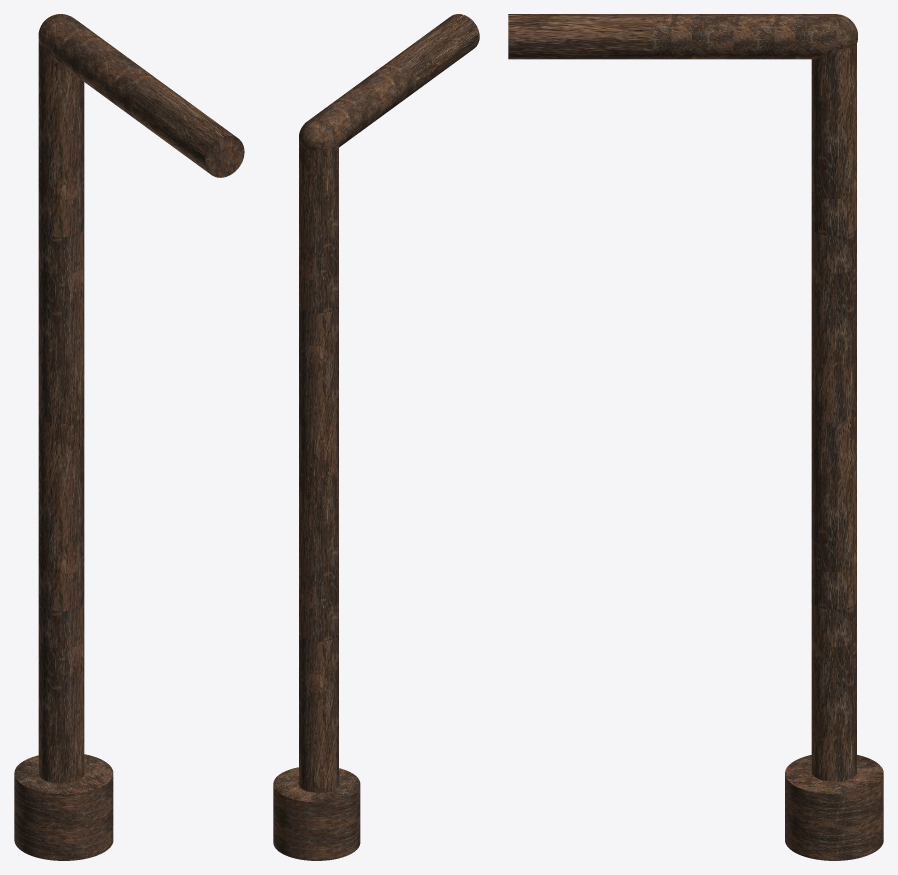
The model's file is citylamppost.fbx.
The picture shows the model from 3 angles, left to right: view 1: azimuth 30°, elevation 25°; view 2: azimuth 150°, elevation 25°; view 3: azimuth 270°, elevation 25°; orthographic projection. The views are drawn at different scales.
Visible parts, largest first — view 1: pasted__pCylinder14; view 2: pasted__pCylinder14; view 3: pasted__pCylinder14.
Boxes of the visible parts, bbox=[...] form: pasted__pCylinder14: bbox=[14, 14, 244, 860]; pasted__pCylinder14: bbox=[273, 14, 479, 860]; pasted__pCylinder14: bbox=[508, 14, 883, 860].
Size of the model in its own units: 1.06 by 9.71 by 4.02.
Materials: 1 (1 with a texture image).
